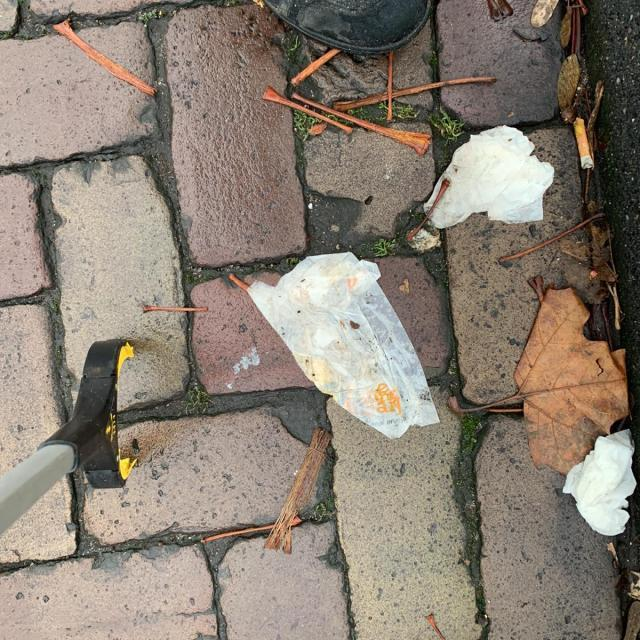Paper: (244, 249, 442, 441), (419, 122, 556, 230), (561, 425, 639, 537)
